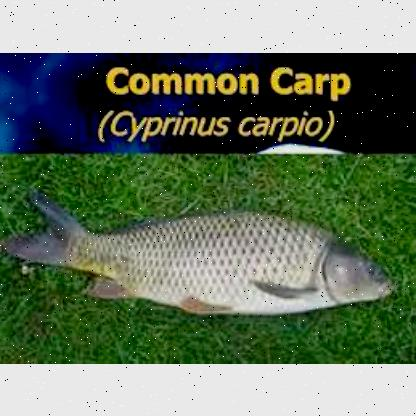ikan-mas: (16, 200, 398, 312)
